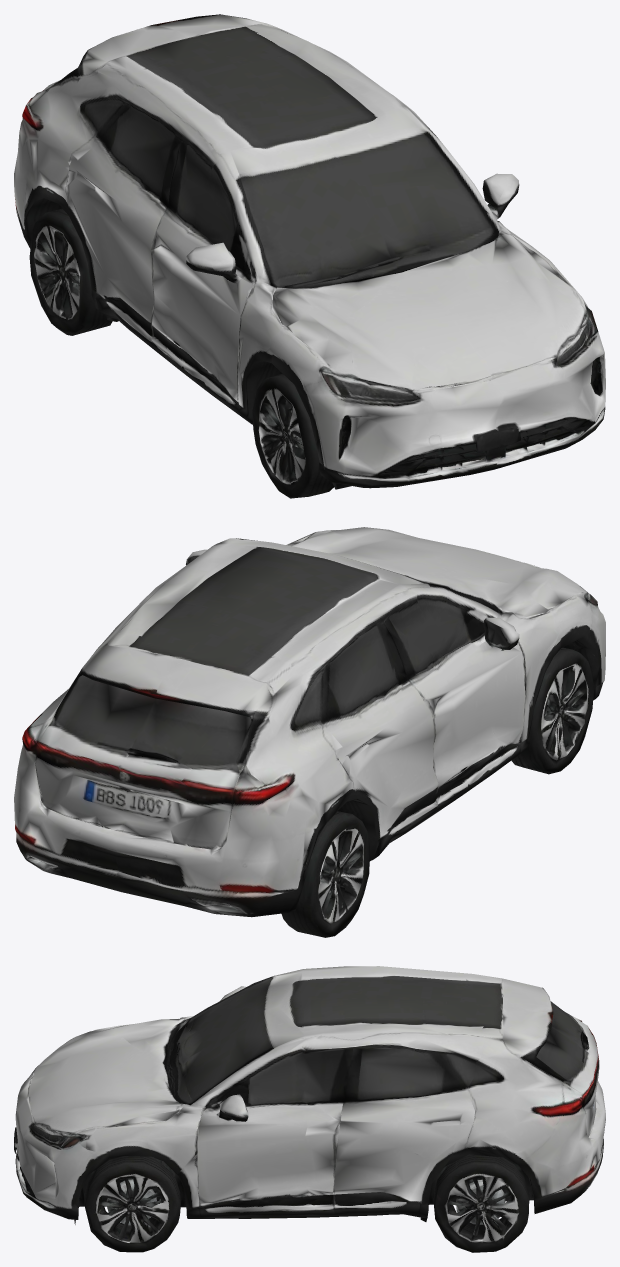
File: car_suv_lod1.glb
3 views of the same model, one above another, from view 1: azimuth 30°, elevation 25°; view 2: azimuth 150°, elevation 25°; view 3: azimuth 270°, elevation 25° (orthographic). The views are drawn at different scales.
Parts seen in each view (by area): view 1: tripo_node_8c5399f9-dbeb-4aed-8dcd-e58fa2274673; view 2: tripo_node_8c5399f9-dbeb-4aed-8dcd-e58fa2274673; view 3: tripo_node_8c5399f9-dbeb-4aed-8dcd-e58fa2274673.
Part boxes in pixels (<box>): tripo_node_8c5399f9-dbeb-4aed-8dcd-e58fa2274673: <box>14,14,605,498</box>; tripo_node_8c5399f9-dbeb-4aed-8dcd-e58fa2274673: <box>14,527,605,937</box>; tripo_node_8c5399f9-dbeb-4aed-8dcd-e58fa2274673: <box>14,966,605,1252</box>.
Size of the model in its own units: 2.11 by 1.6 by 4.23.
1 material, 1 textured.
